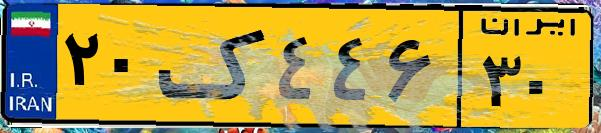0: (525, 38, 570, 115), (110, 28, 158, 98)
2: (57, 26, 110, 100)
3: (475, 38, 525, 113)
4: (270, 28, 330, 110), (330, 28, 385, 110)
6: (385, 28, 445, 110)
ک: (158, 12, 270, 120)
